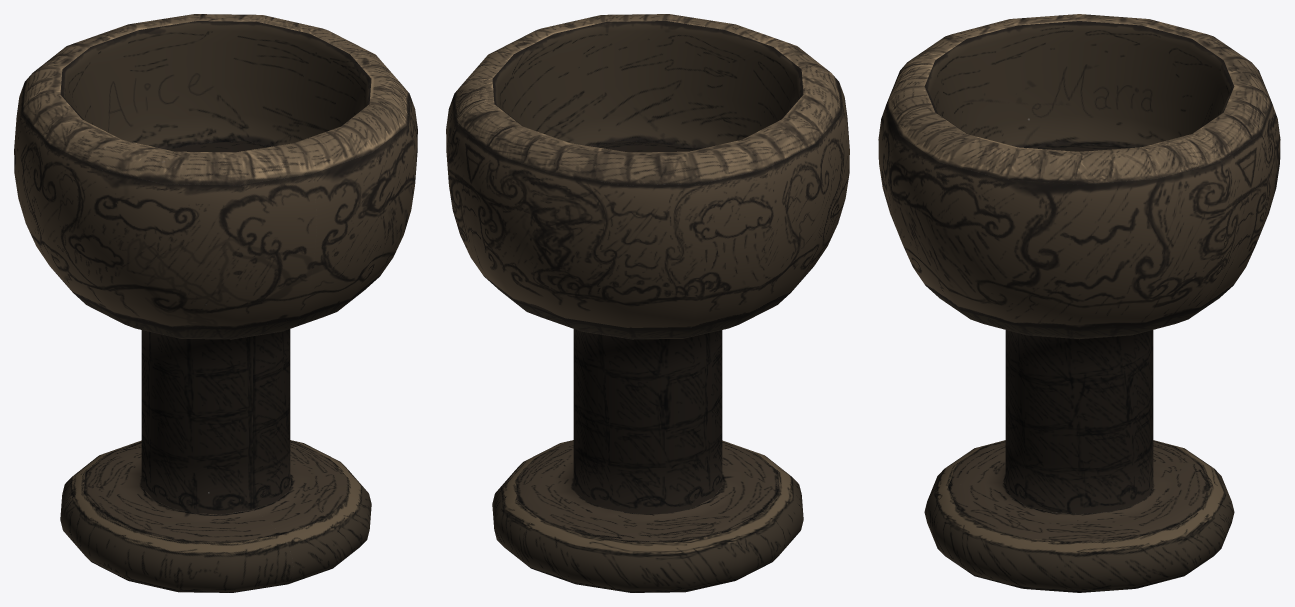
Rendered from fountain.fbx.
3 renders of one model, left to right at view 1: azimuth 30°, elevation 25°; view 2: azimuth 150°, elevation 25°; view 3: azimuth 270°, elevation 25°, orthographic.
Visible parts, largest first — view 1: Fountain.001; view 2: Fountain.001; view 3: Fountain.001.
Boxes of the visible parts, x1,y1,x2,y2 form: Fountain.001: (14,14,417,592); Fountain.001: (446,14,849,592); Fountain.001: (878,14,1280,592).
Bounding box in the file's own units: 238 × 298 × 238.
Materials: 1 (1 with a texture image).
